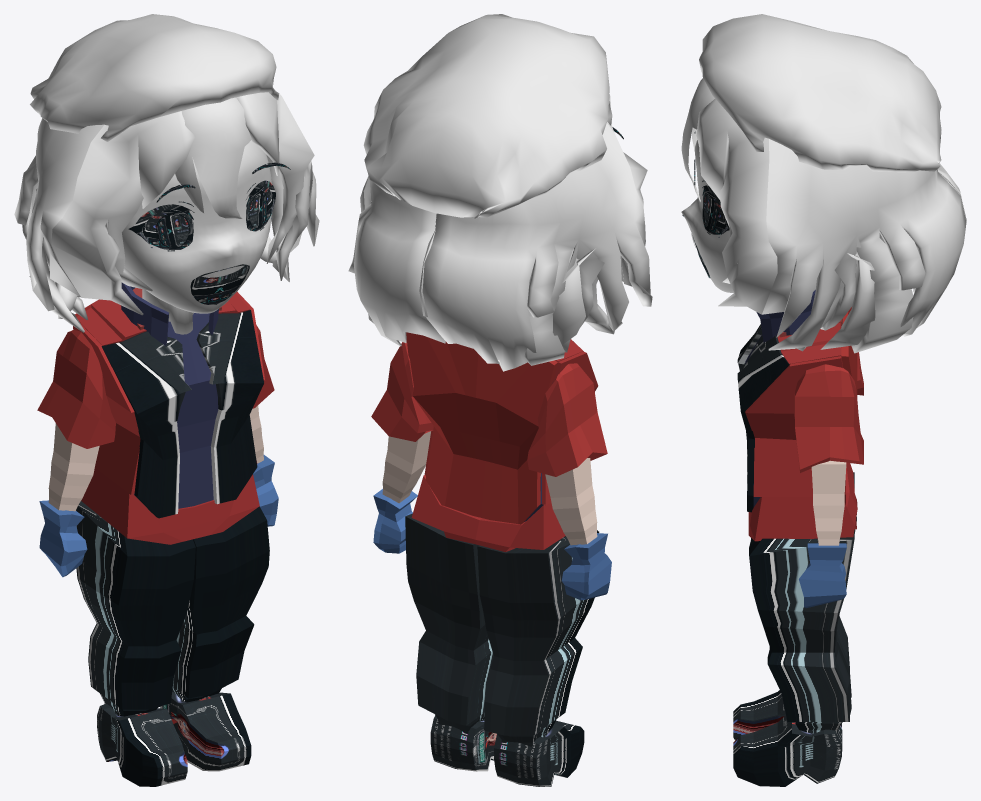
File: RBC.fbx
The picture shows the model from 3 angles, left to right: view 1: azimuth 30°, elevation 25°; view 2: azimuth 150°, elevation 25°; view 3: azimuth 270°, elevation 25°; orthographic projection.
Visible parts, largest first — view 1: Cube.001, Cube.015, Cube.002, Cube.012, Cube.011, Cube.003, Cube.016, Cube.010, Cube.006, Cube.014, Cube.013, Plane.001 (+5 smaller); view 2: Cube.001, Cube.002, Cube.015, Cube.012, Cube.011, Cube.016, Cube.013, Cube.014, Cube.006, Cube.017; view 3: Cube.001, Cube.002, Cube.015, Cube.012, Cube.011, Cube.016, Cube.013, Cube.014, Cube.003, Cube.010.
Part boxes in pixels (x1=…): Cube.001: x1=14, y1=90, x2=319, y2=332; Cube.015: x1=76, y1=501, x2=269, y2=709; Cube.002: x1=30, y1=14, x2=279, y2=141; Cube.012: x1=75, y1=291, x2=264, y2=518; Cube.011: x1=37, y1=325, x2=274, y2=544; Cube.003: x1=106, y1=140, x2=272, y2=313; Cube.016: x1=97, y1=691, x2=251, y2=786; Cube.010: x1=121, y1=282, x2=218, y2=508; Cube.006: x1=73, y1=323, x2=140, y2=494; Cube.014: x1=39, y1=455, x2=278, y2=577; Cube.013: x1=48, y1=405, x2=263, y2=511; Plane.001: x1=157, y1=191, x2=267, y2=248; Cube.001: x1=348, y1=94, x2=652, y2=371; Cube.002: x1=363, y1=14, x2=612, y2=218; Cube.015: x1=405, y1=513, x2=598, y2=735; Cube.012: x1=406, y1=332, x2=583, y2=524; Cube.011: x1=371, y1=340, x2=607, y2=551; Cube.016: x1=430, y1=715, x2=584, y2=786; Cube.013: x1=382, y1=431, x2=597, y2=545; Cube.014: x1=373, y1=489, x2=611, y2=600; Cube.006: x1=542, y1=351, x2=598, y2=505; Cube.017: x1=435, y1=713, x2=556, y2=746; Cube.001: x1=681, y1=78, x2=966, y2=353; Cube.002: x1=699, y1=14, x2=941, y2=172; Cube.015: x1=749, y1=472, x2=856, y2=721; Cube.012: x1=737, y1=307, x2=857, y2=512; Cube.011: x1=748, y1=307, x2=863, y2=541; Cube.016: x1=733, y1=690, x2=842, y2=786; Cube.013: x1=811, y1=460, x2=846, y2=545; Cube.014: x1=799, y1=543, x2=846, y2=608; Cube.003: x1=681, y1=140, x2=734, y2=292; Cube.010: x1=745, y1=290, x2=815, y2=506.
Size of the model in its own units: 112 by 274 by 96.83.
